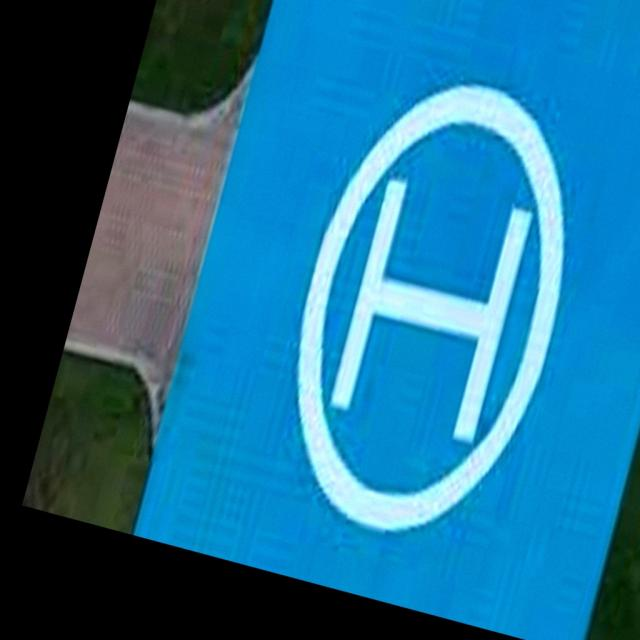helipad: (286, 79, 568, 533)
